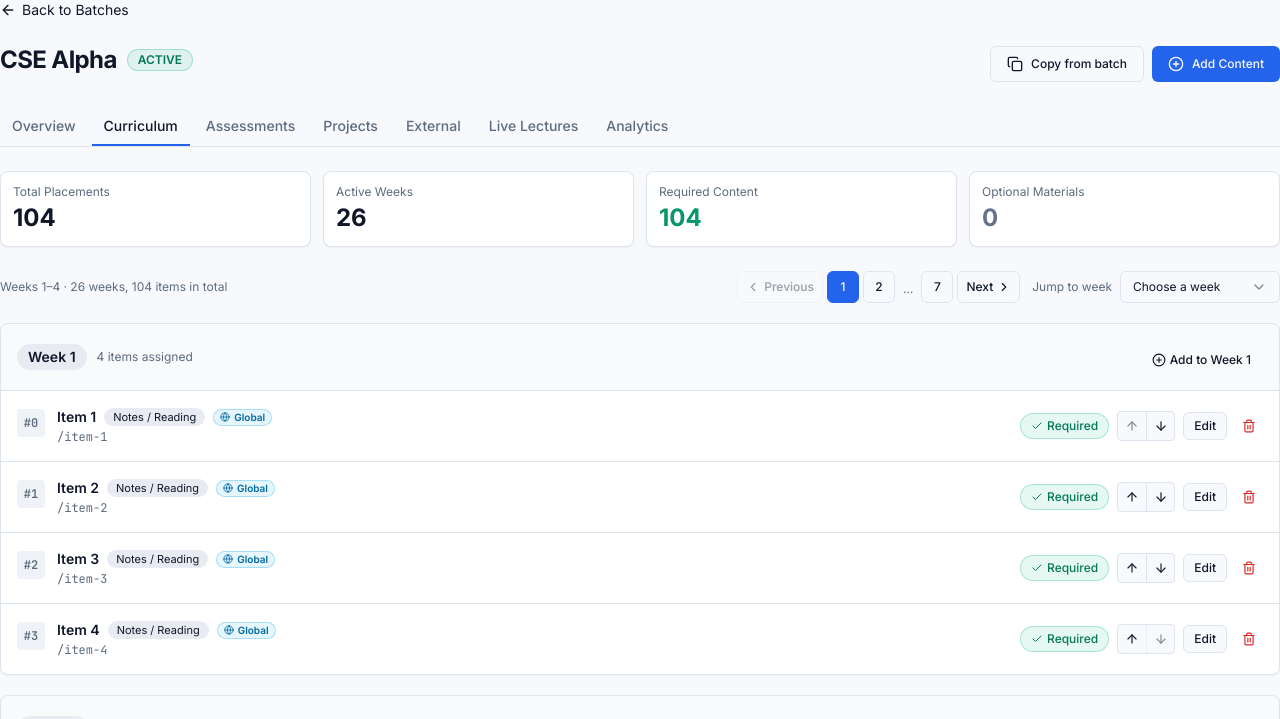
it: Add Content picker › says how many eligible items there are, and flags a reached cap
The image size is (1280, 719).
Click the button "Add Content".
click(1216, 64)  # box [1152, 46, 1279, 82]
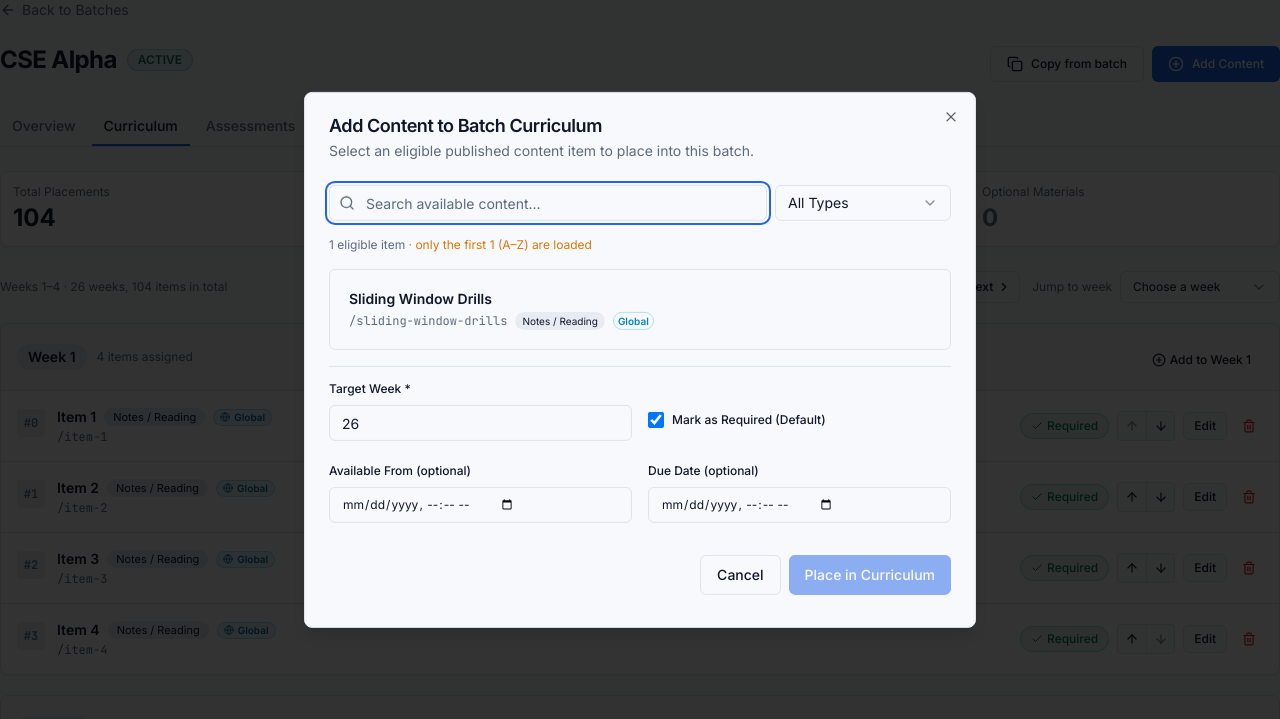
Check: the text "1 eligible item · only the first 1 (A–Z) are loaded" is shown, box [329, 237, 592, 252]
Check: the text "· only the first 1 (A–Z) are loaded" is shown, box [405, 237, 592, 252]
